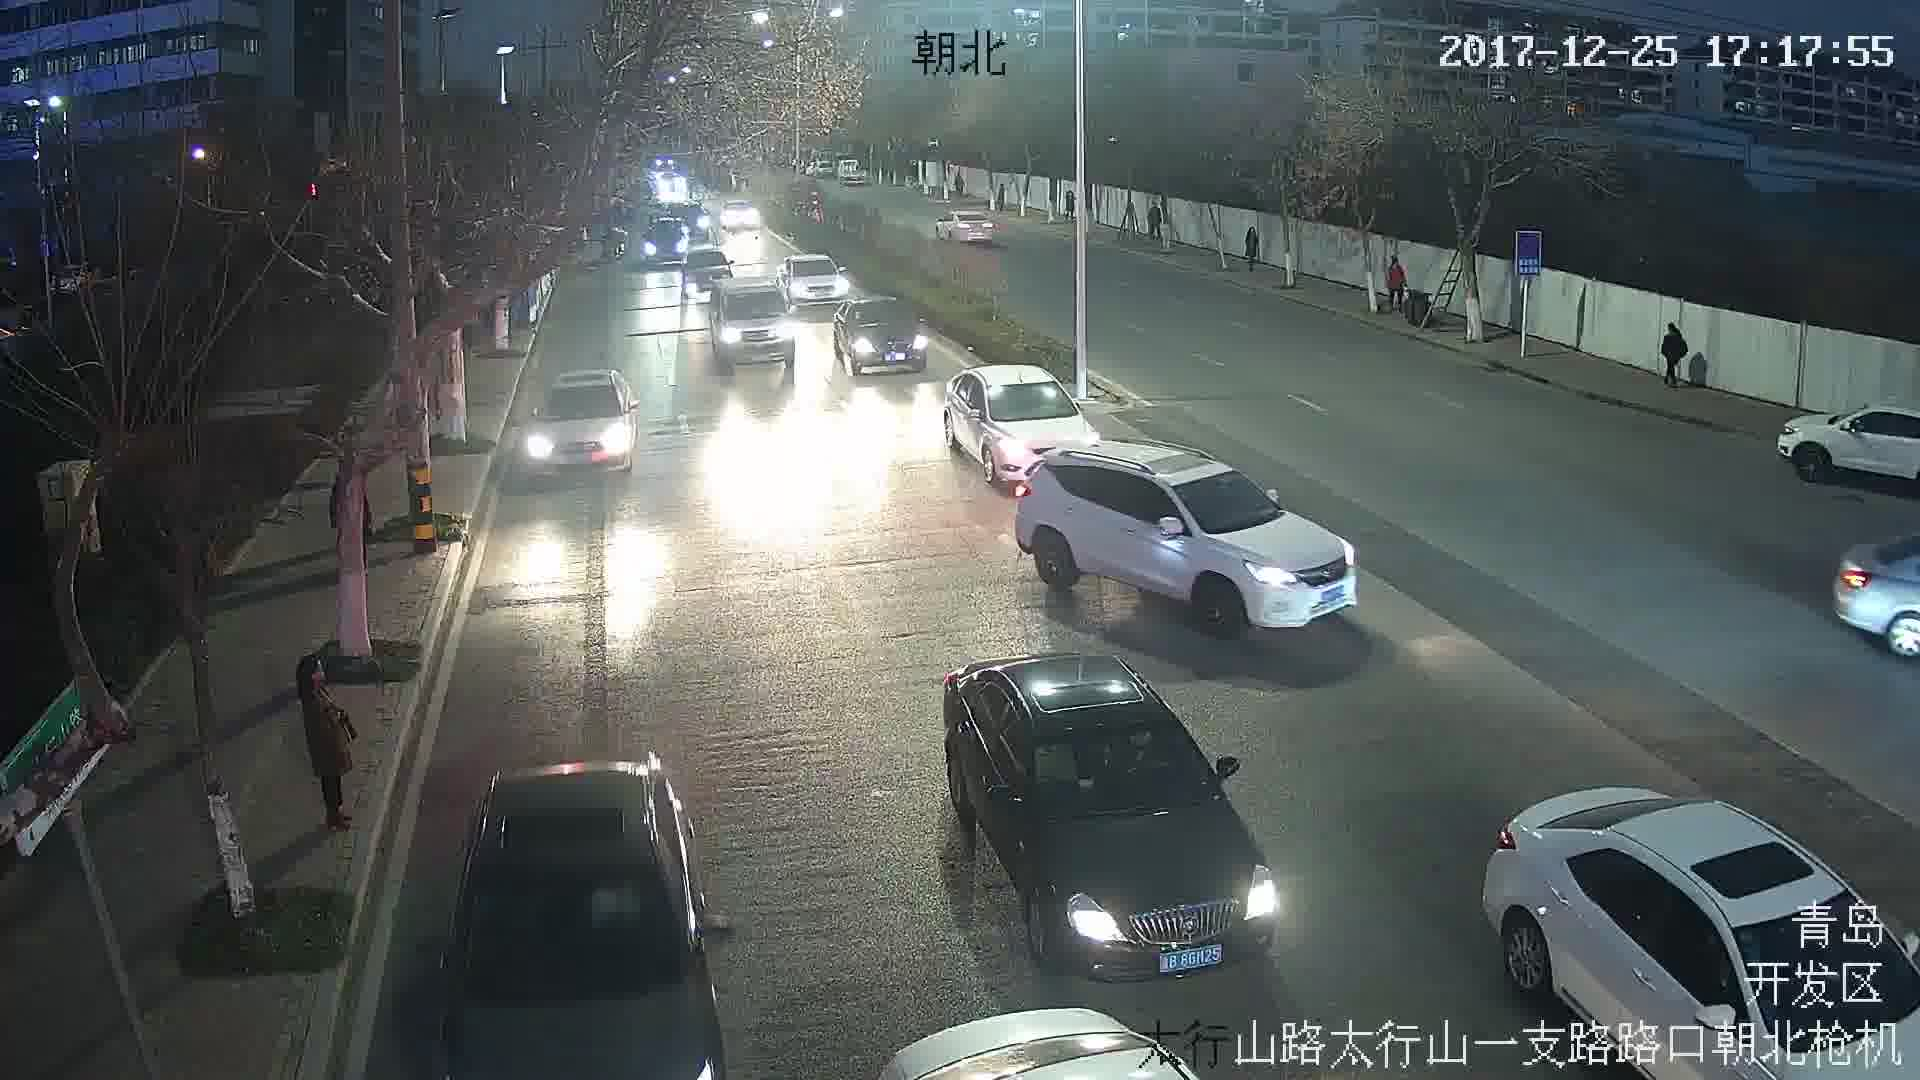car: (945, 662, 1282, 984), (1016, 449, 1353, 628), (942, 366, 1098, 481), (530, 367, 634, 477), (712, 278, 795, 375), (832, 296, 927, 373), (784, 256, 845, 305), (938, 210, 998, 246)
person: (296, 657, 353, 827), (1656, 323, 1680, 388), (1385, 264, 1405, 307), (1241, 230, 1262, 262)
